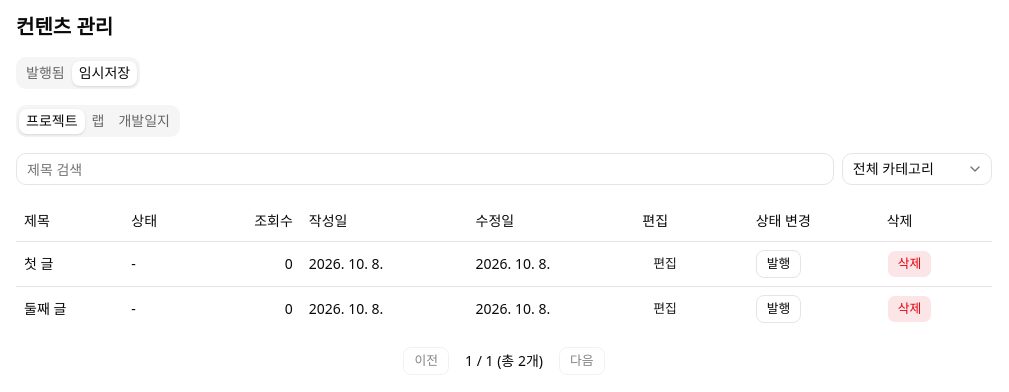
Test: PostListPage 발행 전환 › 정상 › 전환을 누른 행의 버튼이 요청 중 처리 중…/disabled가 되고 성공하면 재조회로 그 글이 목록에서 사라져야 한다
This screenshot has width=1009, height=392.
Expected: the text "첫 글" is shown, [16, 241, 123, 286]
Click the button "발행" in the row of "첫 글": (778, 264) [756, 250, 801, 278]
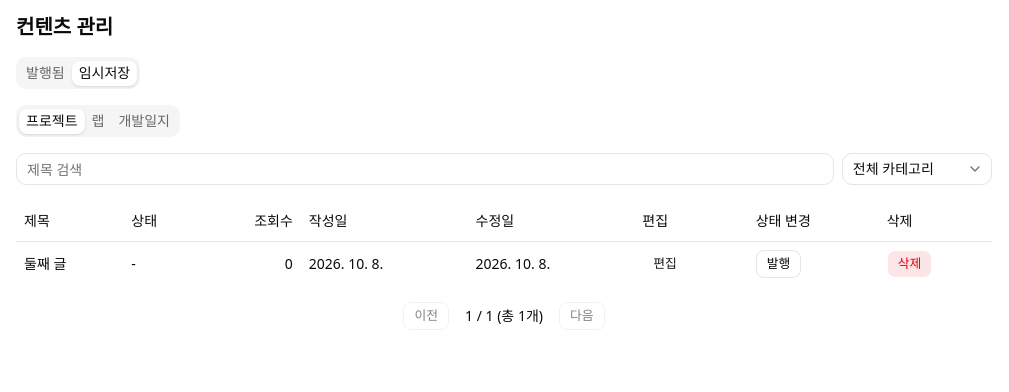
Expected: the text "둘째 글" is shown, [16, 241, 123, 286]
Result: the text "첫 글" is gone
